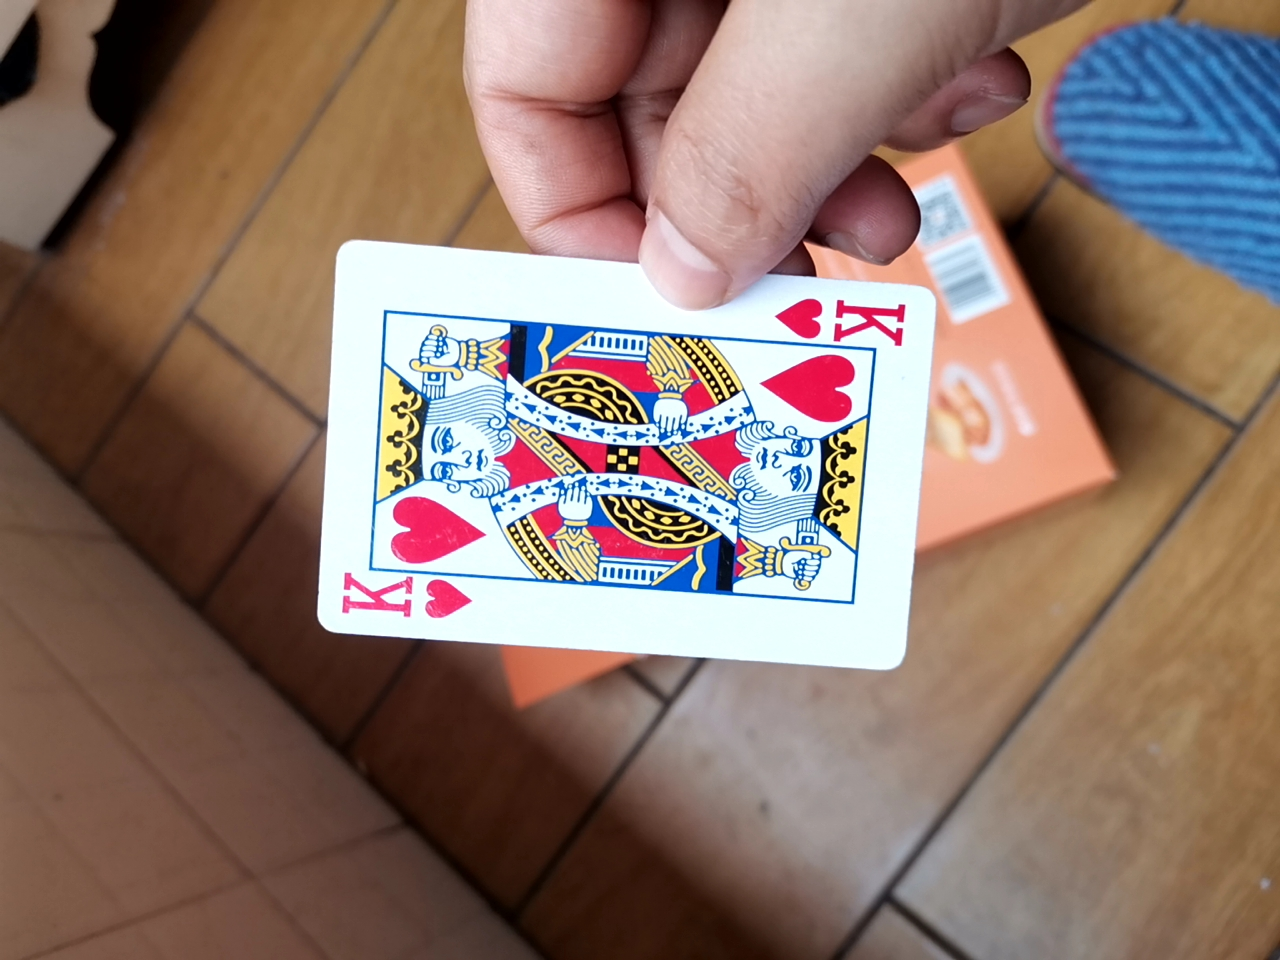hx k: (300, 242, 935, 669)
